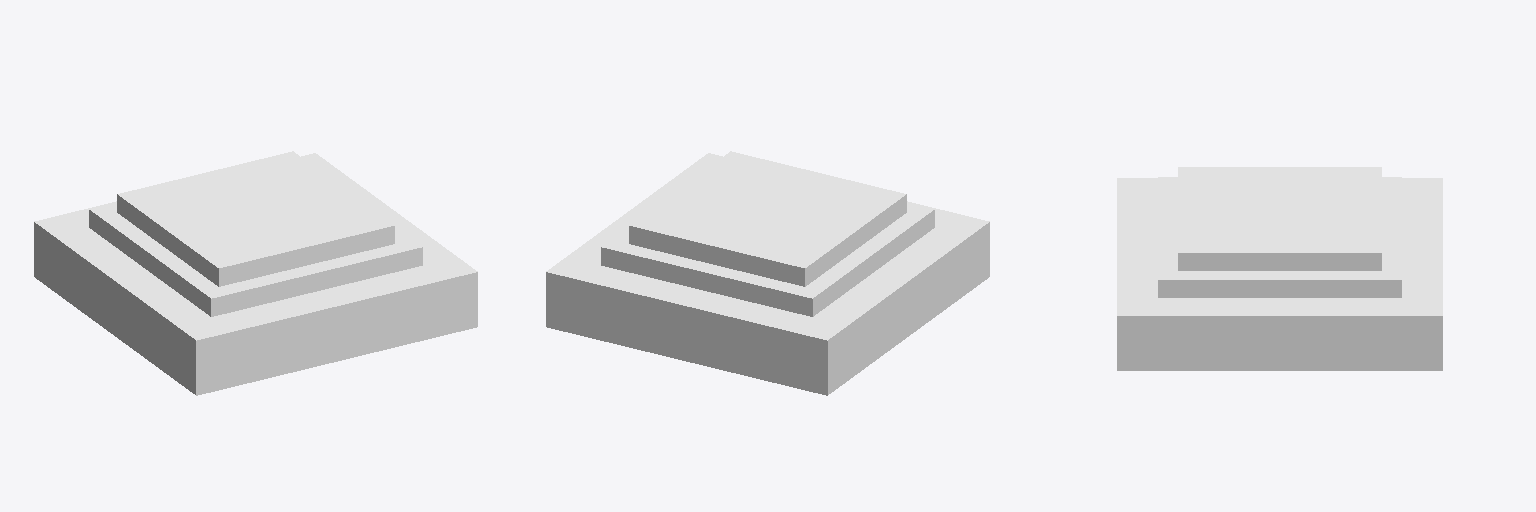
File: tower.obj
3 renders of one model, left to right at view 1: azimuth 30°, elevation 25°; view 2: azimuth 150°, elevation 25°; view 3: azimuth 270°, elevation 25°, orthographic.
Visible parts, largest first — view 1: tower; view 2: tower; view 3: tower.
Part boxes in pixels (bbox=[...]): tower: bbox=[34, 151, 477, 395]; tower: bbox=[546, 151, 989, 395]; tower: bbox=[1117, 167, 1442, 370].
Size of the model in its own units: 16 by 5 by 16.